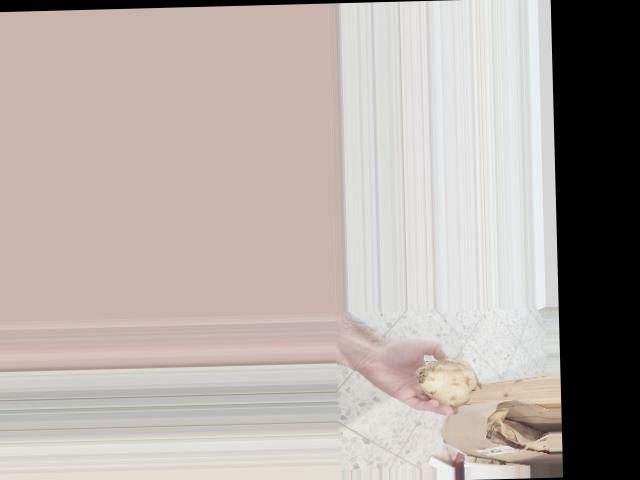onion: (412, 353, 483, 409)
